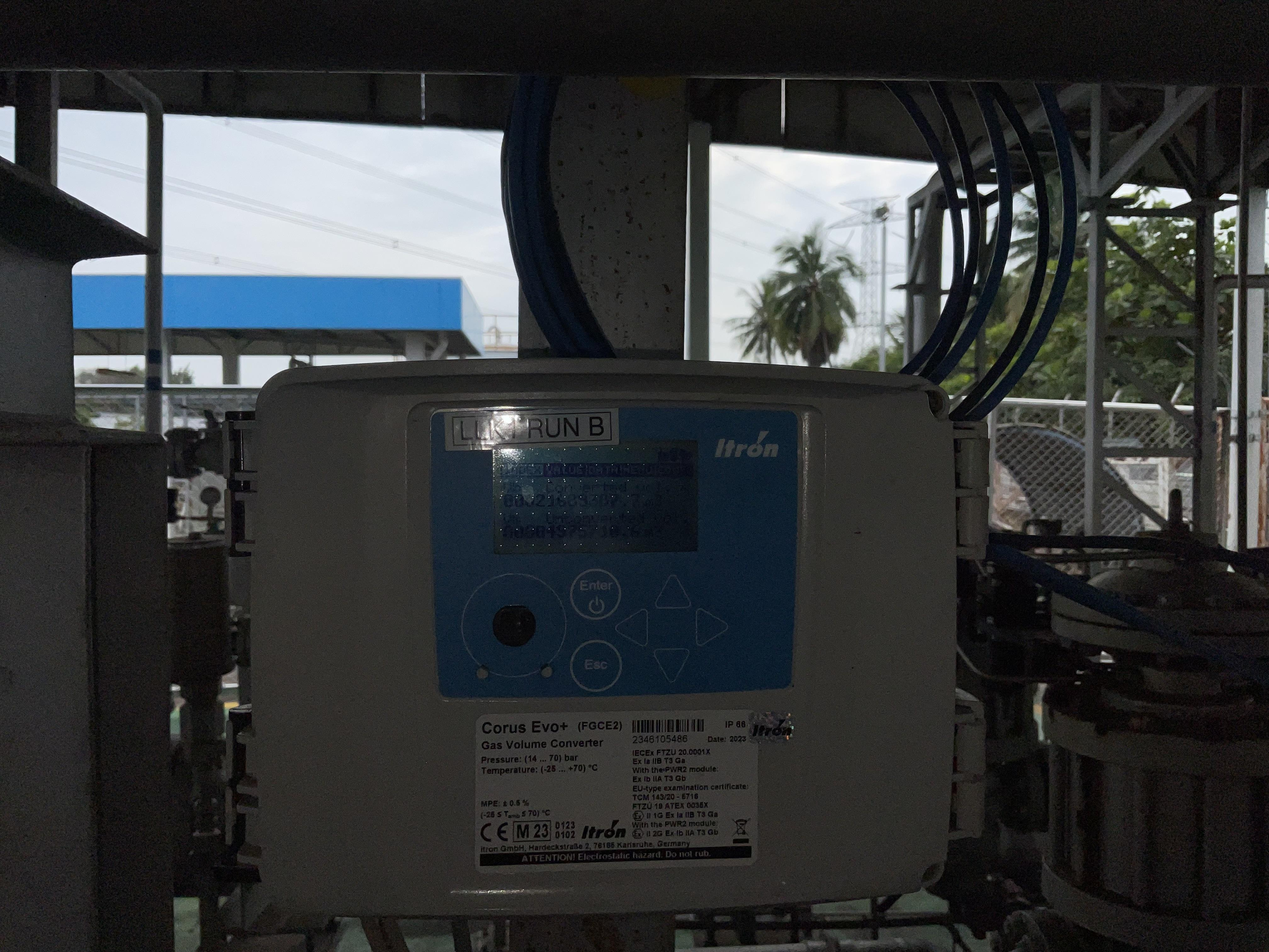digital_screen: (492, 440, 697, 554)
